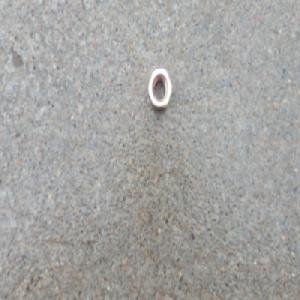Nut: (144, 68, 170, 113)
